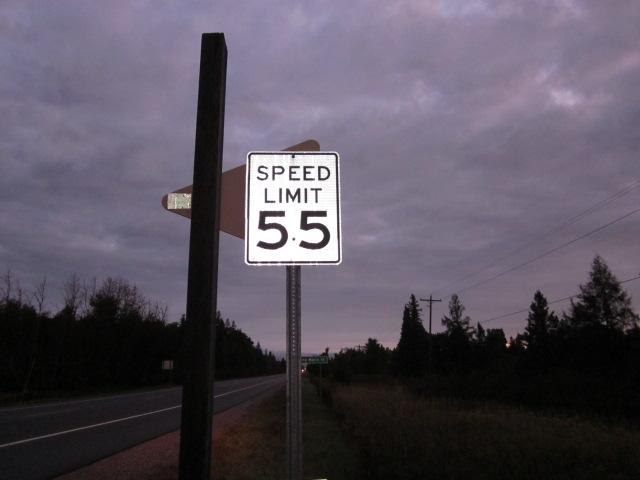regulatory: (245, 154, 344, 269)
